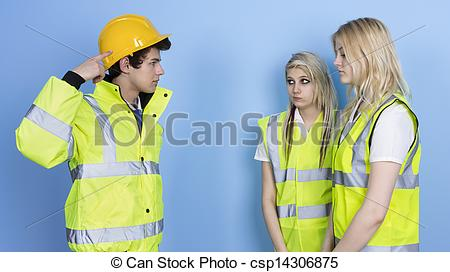Person_wearing_helmet: (92, 13, 175, 83)
